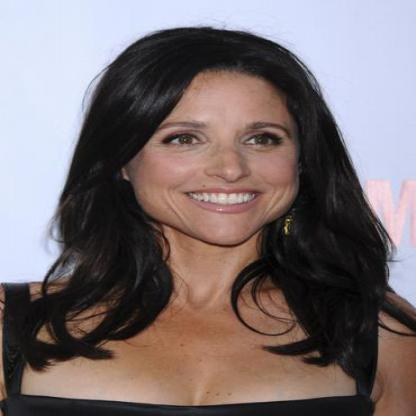long-hair: (36, 247, 400, 305)
